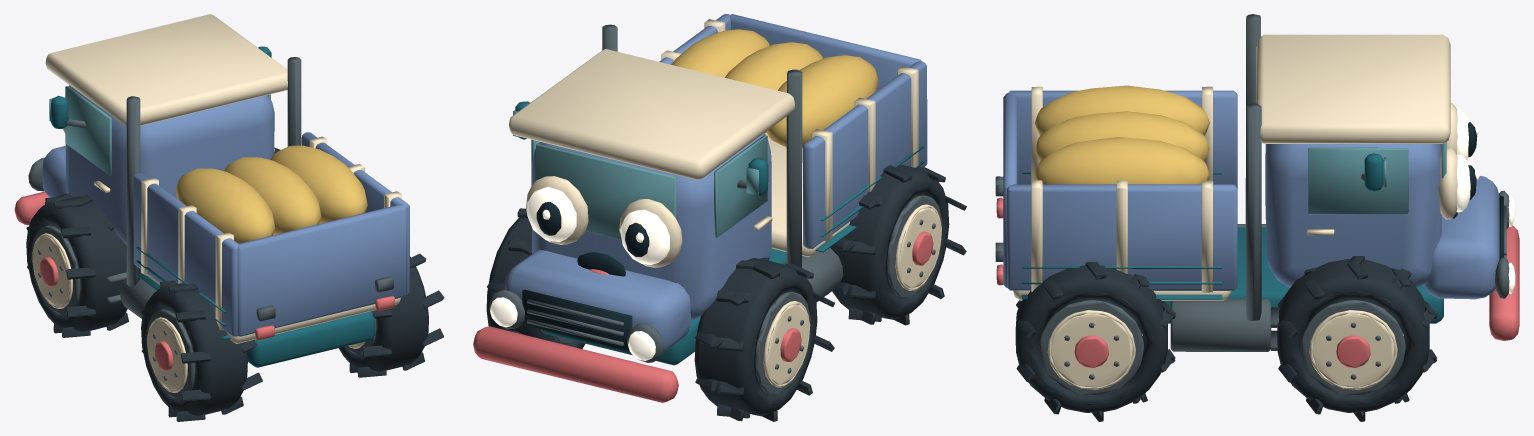
Rendered from bento_mobile.glb.
3 renders of one model, left to right at view 1: azimuth 30°, elevation 25°; view 2: azimuth 150°, elevation 25°; view 3: azimuth 270°, elevation 25°, orthographic. The views are drawn at different scales.
Parts seen in each view (by area): view 1: Body, WheelFL, WheelRL, WheelRR; view 2: Body, WheelFL, WheelRL, Eyes, WheelFR; view 3: Body, WheelFR, WheelRR, Eyes.
Boxes of the visible parts, x1=… form: Body: x1=14, y1=14, x2=409, y2=367; WheelFL: x1=26, y1=193, x2=128, y2=337; WheelRL: x1=141, y1=280, x2=262, y2=421; WheelRR: x1=338, y1=253, x2=444, y2=377; Body: x1=473, y1=14, x2=927, y2=402; WheelFL: x1=694, y1=257, x2=834, y2=421; WheelRL: x1=830, y1=165, x2=966, y2=325; Eyes: x1=525, y1=176, x2=682, y2=267; WheelFR: x1=486, y1=208, x2=585, y2=348; Body: x1=995, y1=14, x2=1519, y2=351; WheelFR: x1=1277, y1=256, x2=1437, y2=421; WheelRR: x1=1015, y1=262, x2=1175, y2=421; Eyes: x1=1438, y1=103, x2=1479, y2=219.
Bounding box in the file's own units: 2.83 × 2.7 × 4.31.
